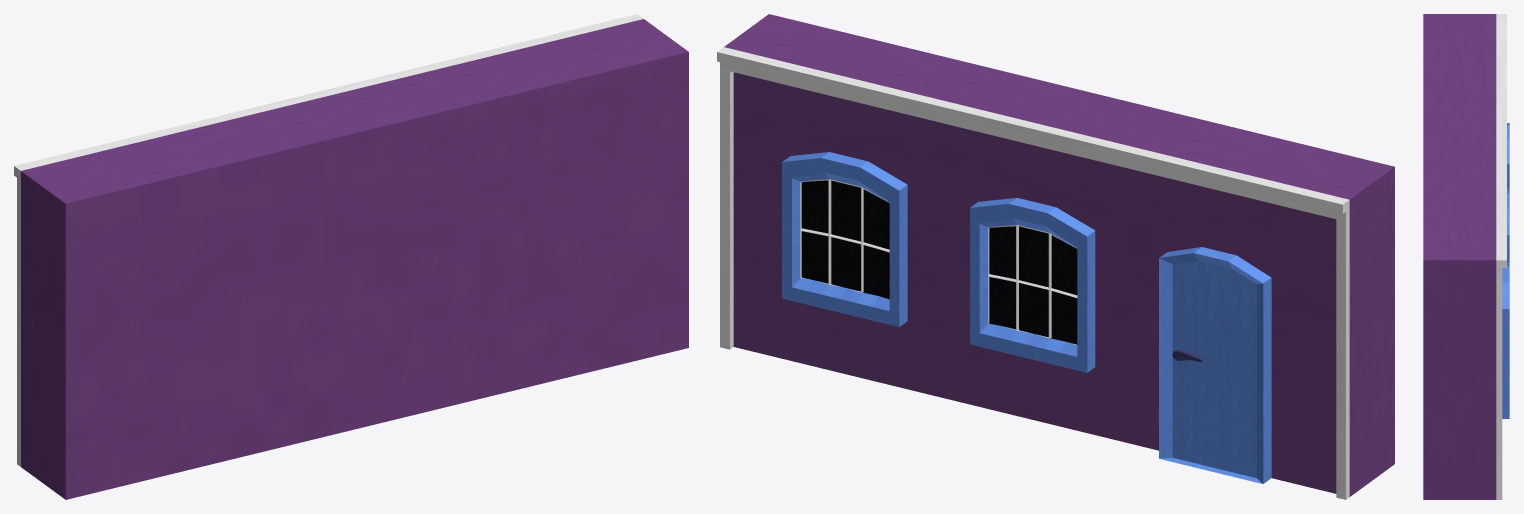
The model's file is casaflo1roxo.gltf.
The picture shows the model from 3 angles, left to right: view 1: azimuth 30°, elevation 25°; view 2: azimuth 150°, elevation 25°; view 3: azimuth 270°, elevation 25°; orthographic projection. The views are drawn at different scales.
Visible parts, largest first — view 1: cuboid; view 2: cuboid (×4); view 3: cuboid (×4).
Part boxes in pixels (x1=…): cuboid: x1=14, y1=14, x2=688, y2=499; cuboid (×4): x1=717, y1=14, x2=1394, y2=499; cuboid (×4): x1=1423, y1=14, x2=1509, y2=499.
Size of the model in its own units: 3 by 1.36 by 0.4438.
Materials: 1 (1 with a texture image).
